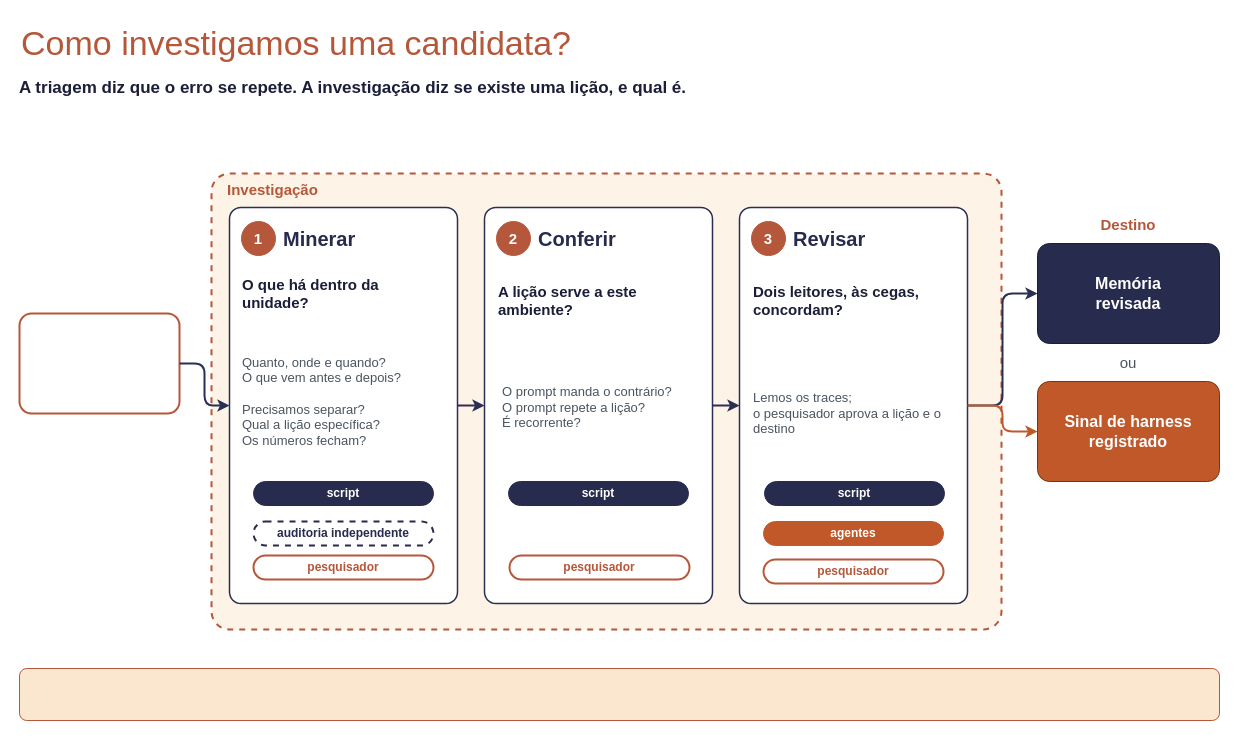
This 1237x738 diagram has some shape labels left out. Here are the shapes that lost their labels. From the top down, the box of each, then its label:
(18, 312, 180, 414): Unidade candidata
(18, 668, 1220, 720): Em cada etapa, a lição pode voltar , mudar de destino ou seguir .
